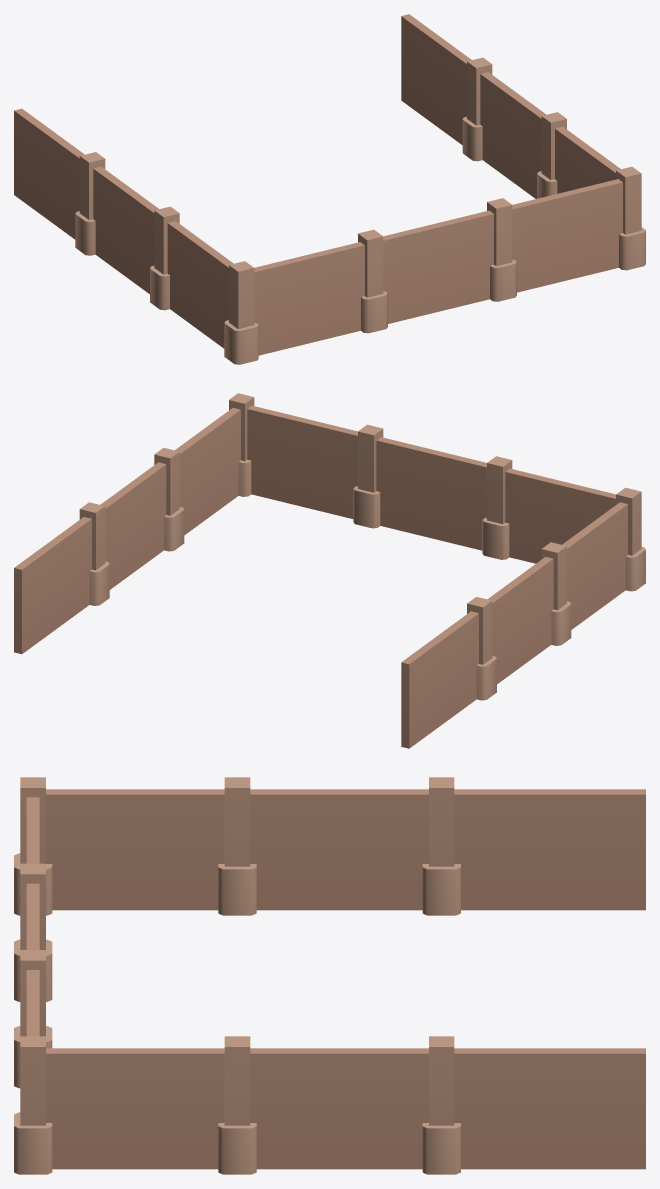
Rendered from fence-3x3.glb.
The picture shows the model from 3 angles, top to bottom: view 1: azimuth 30°, elevation 25°; view 2: azimuth 150°, elevation 25°; view 3: azimuth 270°, elevation 25°; orthographic projection. The views are drawn at different scales.
Visible parts, largest first — view 1: fence-3x3; view 2: fence-3x3; view 3: fence-3x3.
Boxes of the visible parts, x1,y1,x2,y2 form: fence-3x3: (14, 14, 645, 364); fence-3x3: (14, 393, 645, 748); fence-3x3: (14, 777, 645, 1174).
Size of the model in its own units: 1.28 by 0.27 by 1.24.
